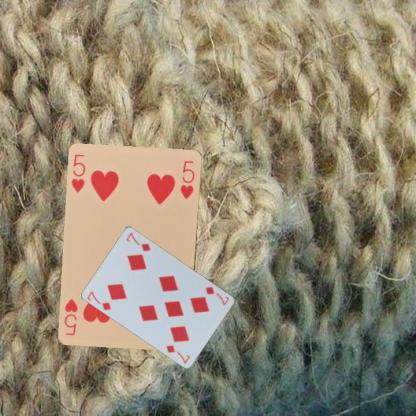5h: (68, 152, 86, 195)
7d: (84, 288, 113, 312), (203, 284, 230, 306)
